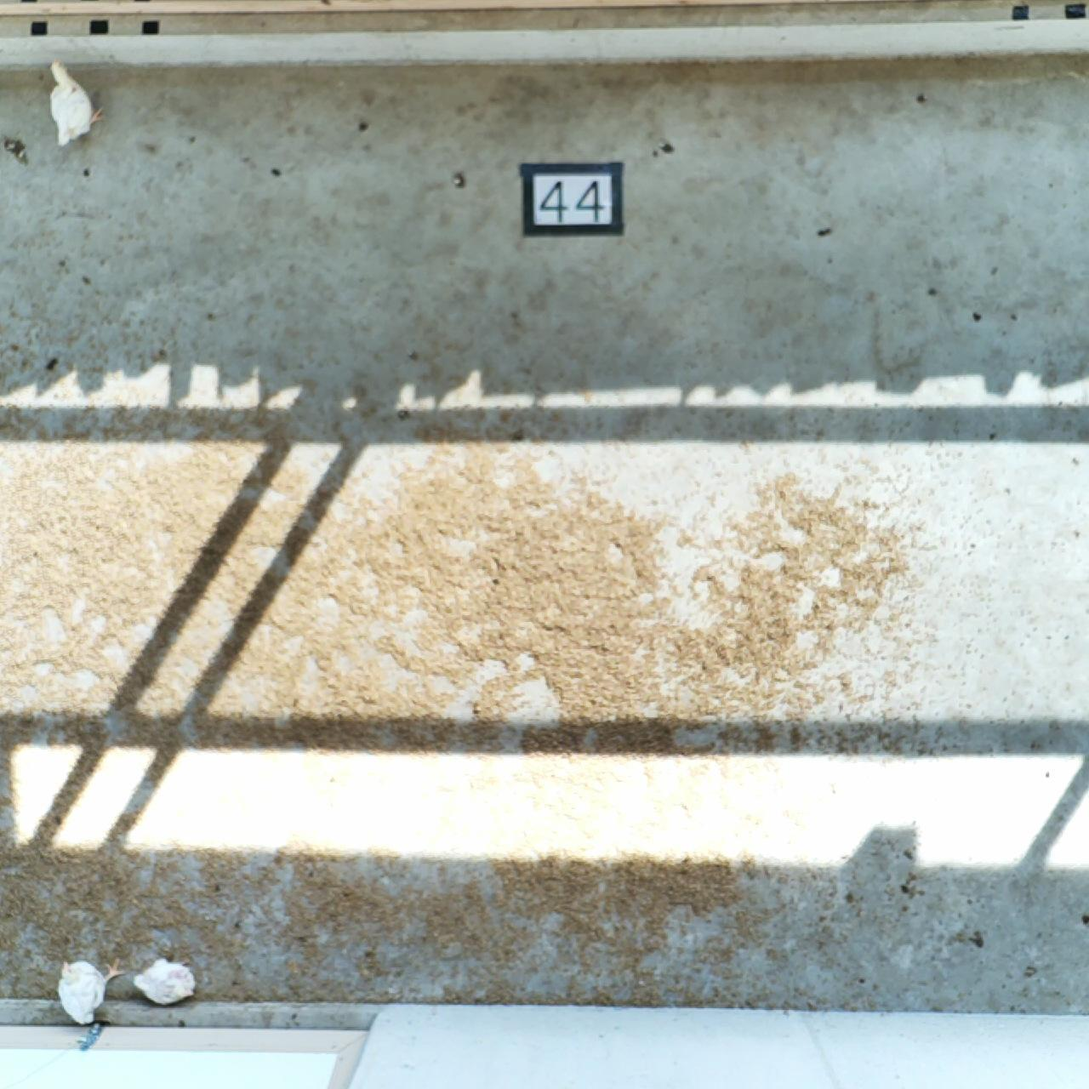chicken: (48, 947, 126, 1034), (39, 52, 105, 152), (129, 950, 206, 1010)
